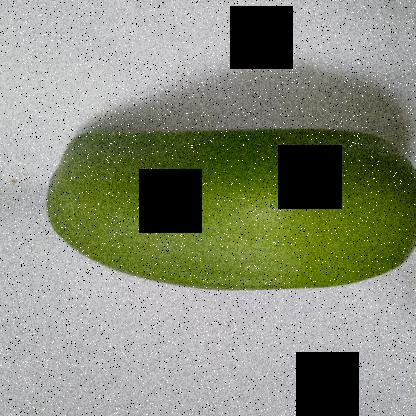freshunripe: (36, 110, 415, 312)
